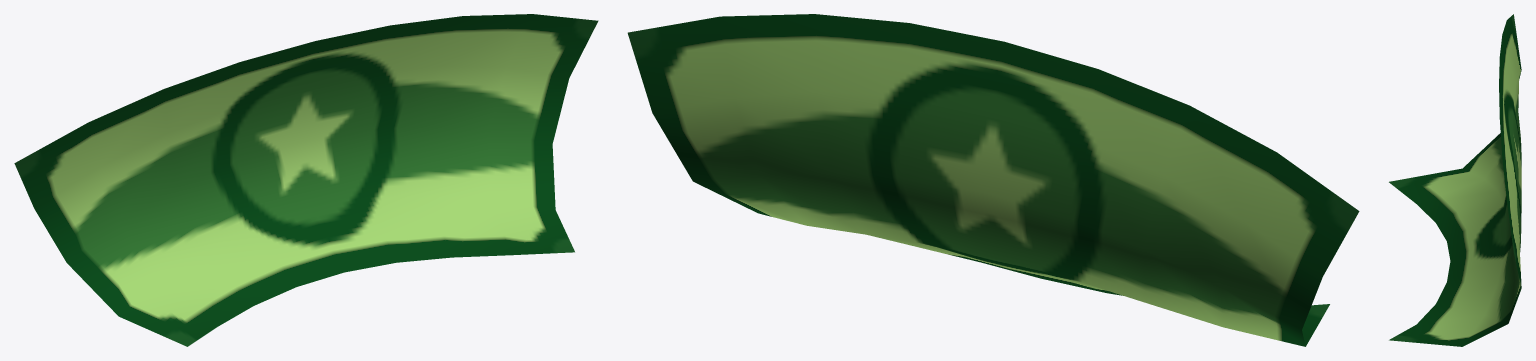
The model's file is ui_cash_02.fbx.
3 views of the same model, side by side, from view 1: azimuth 30°, elevation 25°; view 2: azimuth 150°, elevation 25°; view 3: azimuth 270°, elevation 25° (orthographic). The views are drawn at different scales.
Parts seen in each view (by area): view 1: m_cash_02; view 2: m_cash_02; view 3: m_cash_02.
Boxes of the visible parts, x1=… form: m_cash_02: x1=14, y1=14, x2=598, y2=346; m_cash_02: x1=627, y1=14, x2=1359, y2=346; m_cash_02: x1=1389, y1=14, x2=1521, y2=346.
Size of the model in its own units: 2.33 by 0.5496 by 0.8155.
